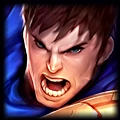Garean: (4, 5, 118, 117)
